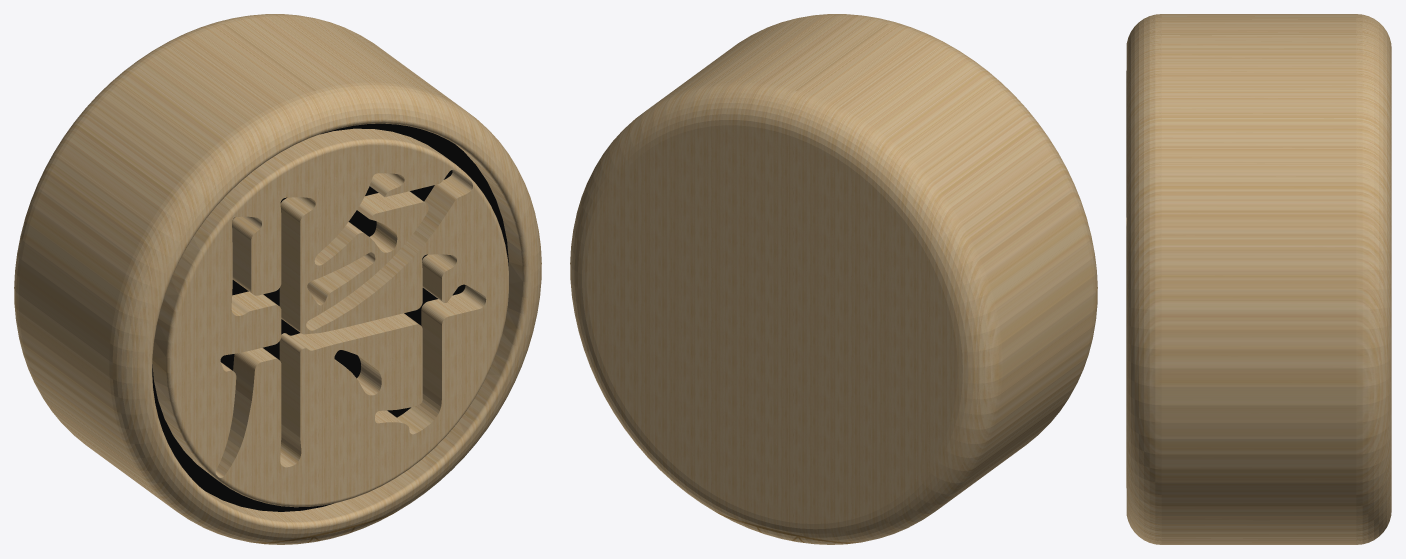
File: h01_chess_black_general.obj
3 views of the same model, side by side, from view 1: azimuth 30°, elevation 25°; view 2: azimuth 150°, elevation 25°; view 3: azimuth 270°, elevation 25° (orthographic). The views are drawn at different scales.
Bounding box in the file's own units: 0.03 × 0.03 × 0.015.
2 materials, 1 textured.
